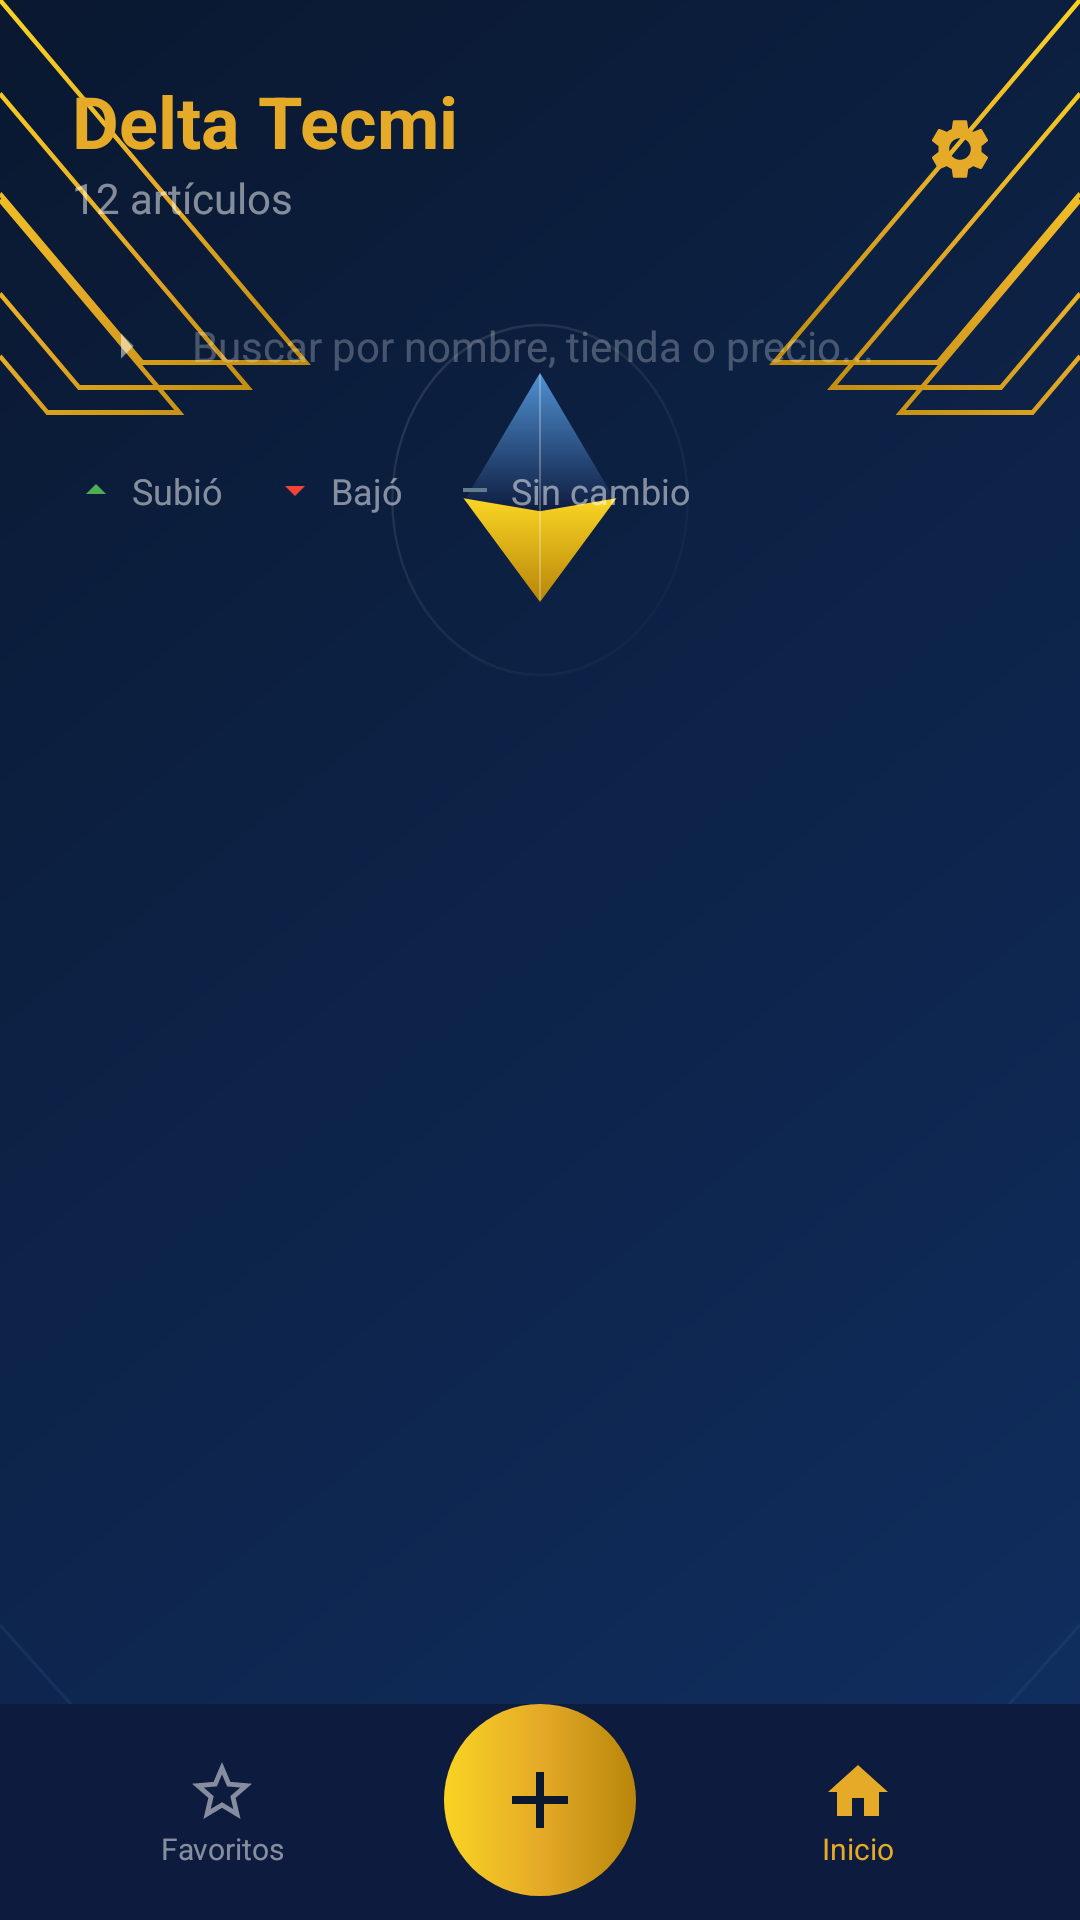

Point at icon controls on the screen. Image size 1080×1920, points as [x,y].
add: [540,1800]
star: [222,1791]
